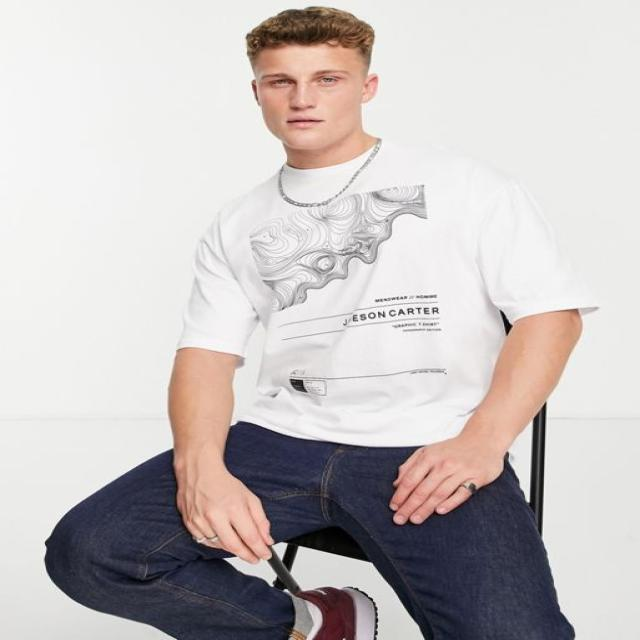tshirt: (171, 137, 595, 452)
